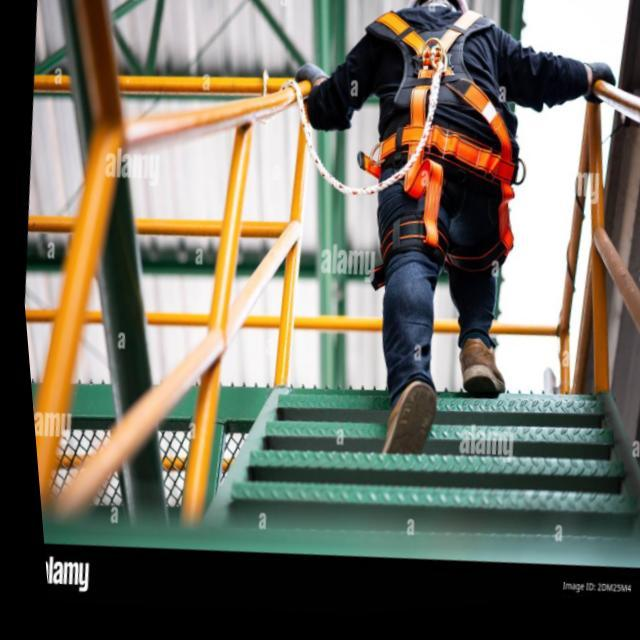belt: (359, 0, 514, 168)
